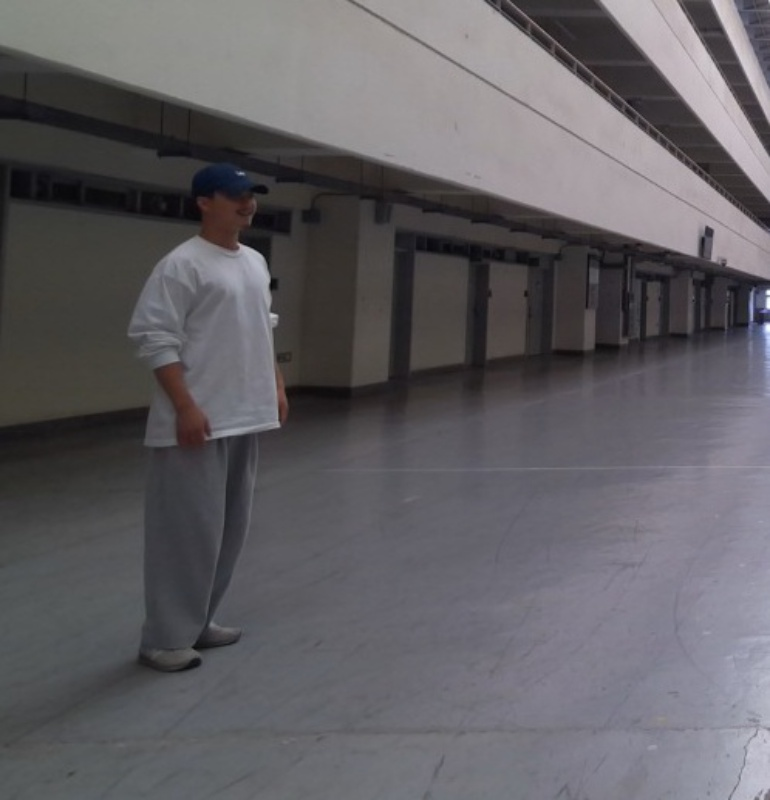person: (125, 163, 291, 675)
